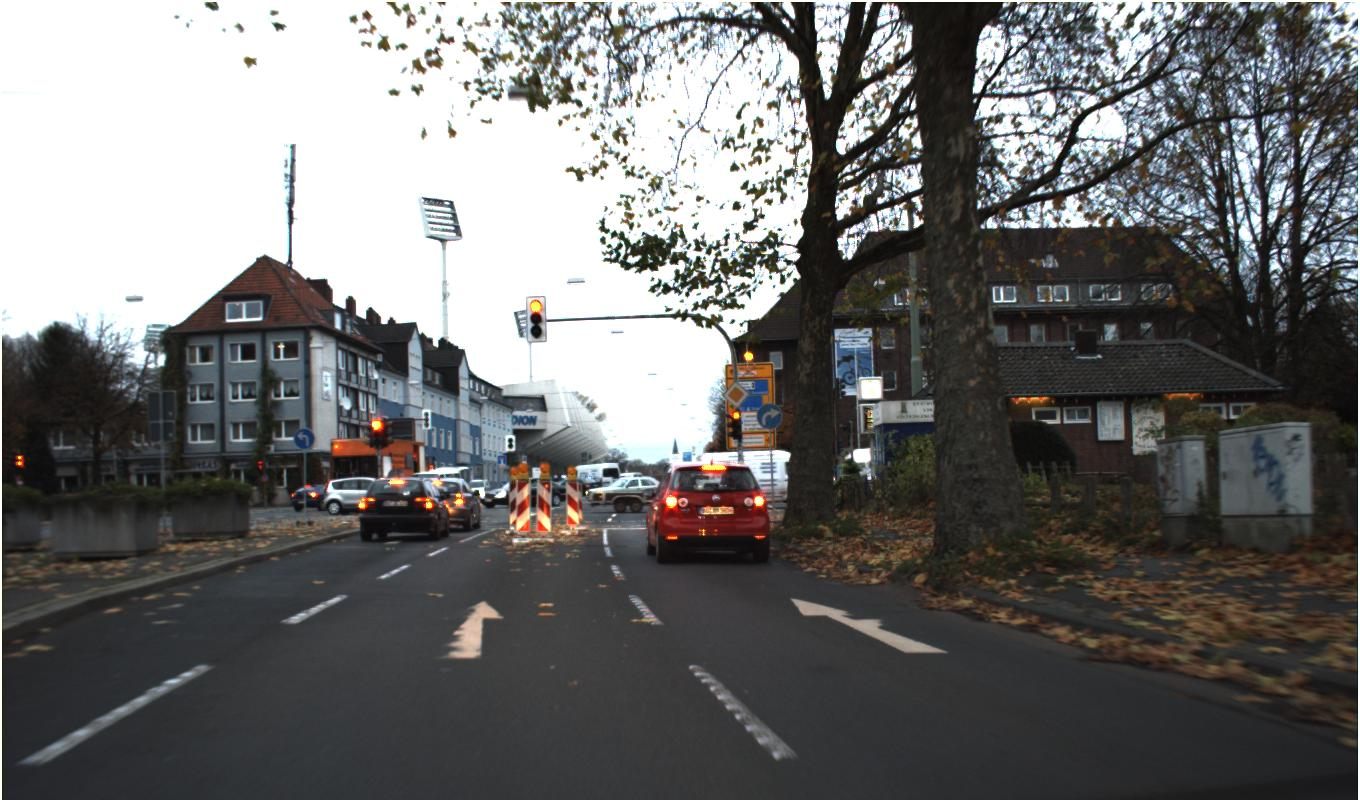mandatory: (756, 402, 782, 430), (293, 427, 315, 450)
sign: (721, 381, 749, 408)
